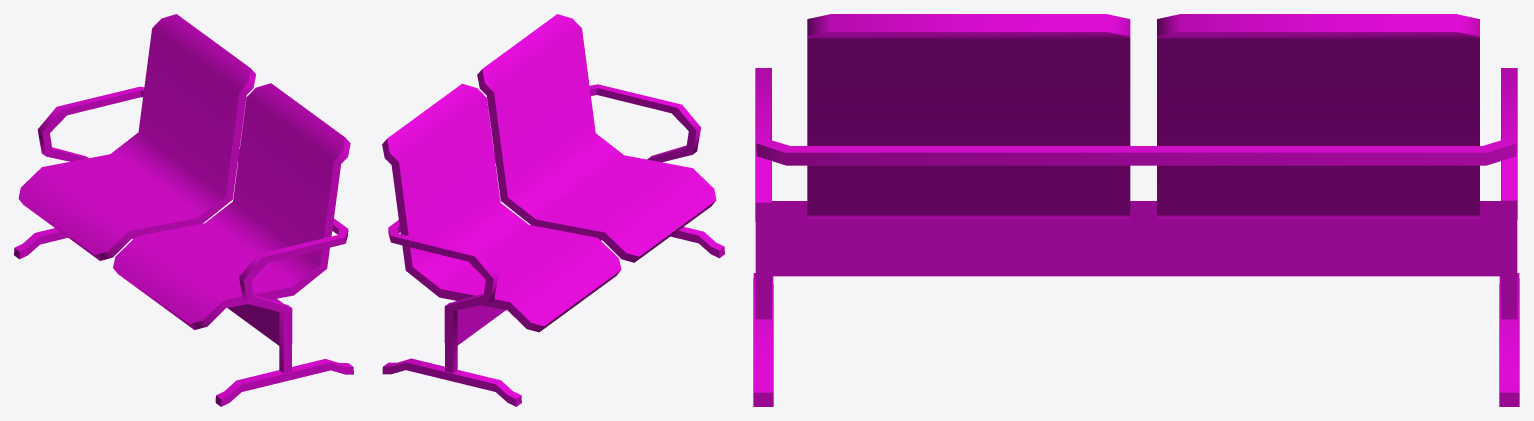
Rendered from PlasticBench.fbx.
3 views of the same model, side by side, from view 1: azimuth 30°, elevation 25°; view 2: azimuth 150°, elevation 25°; view 3: azimuth 270°, elevation 25° (orthographic). The views are drawn at different scales.
Parts seen in each view (by area): view 1: SM_Chair_03; view 2: SM_Chair_03; view 3: SM_Chair_03.
Part boxes in pixels (x1,y1,x2,y2): SM_Chair_03: [14, 14, 353, 406]; SM_Chair_03: [382, 14, 724, 406]; SM_Chair_03: [753, 14, 1519, 406].
Size of the model in its own units: 70.33 by 90.59 by 156.
